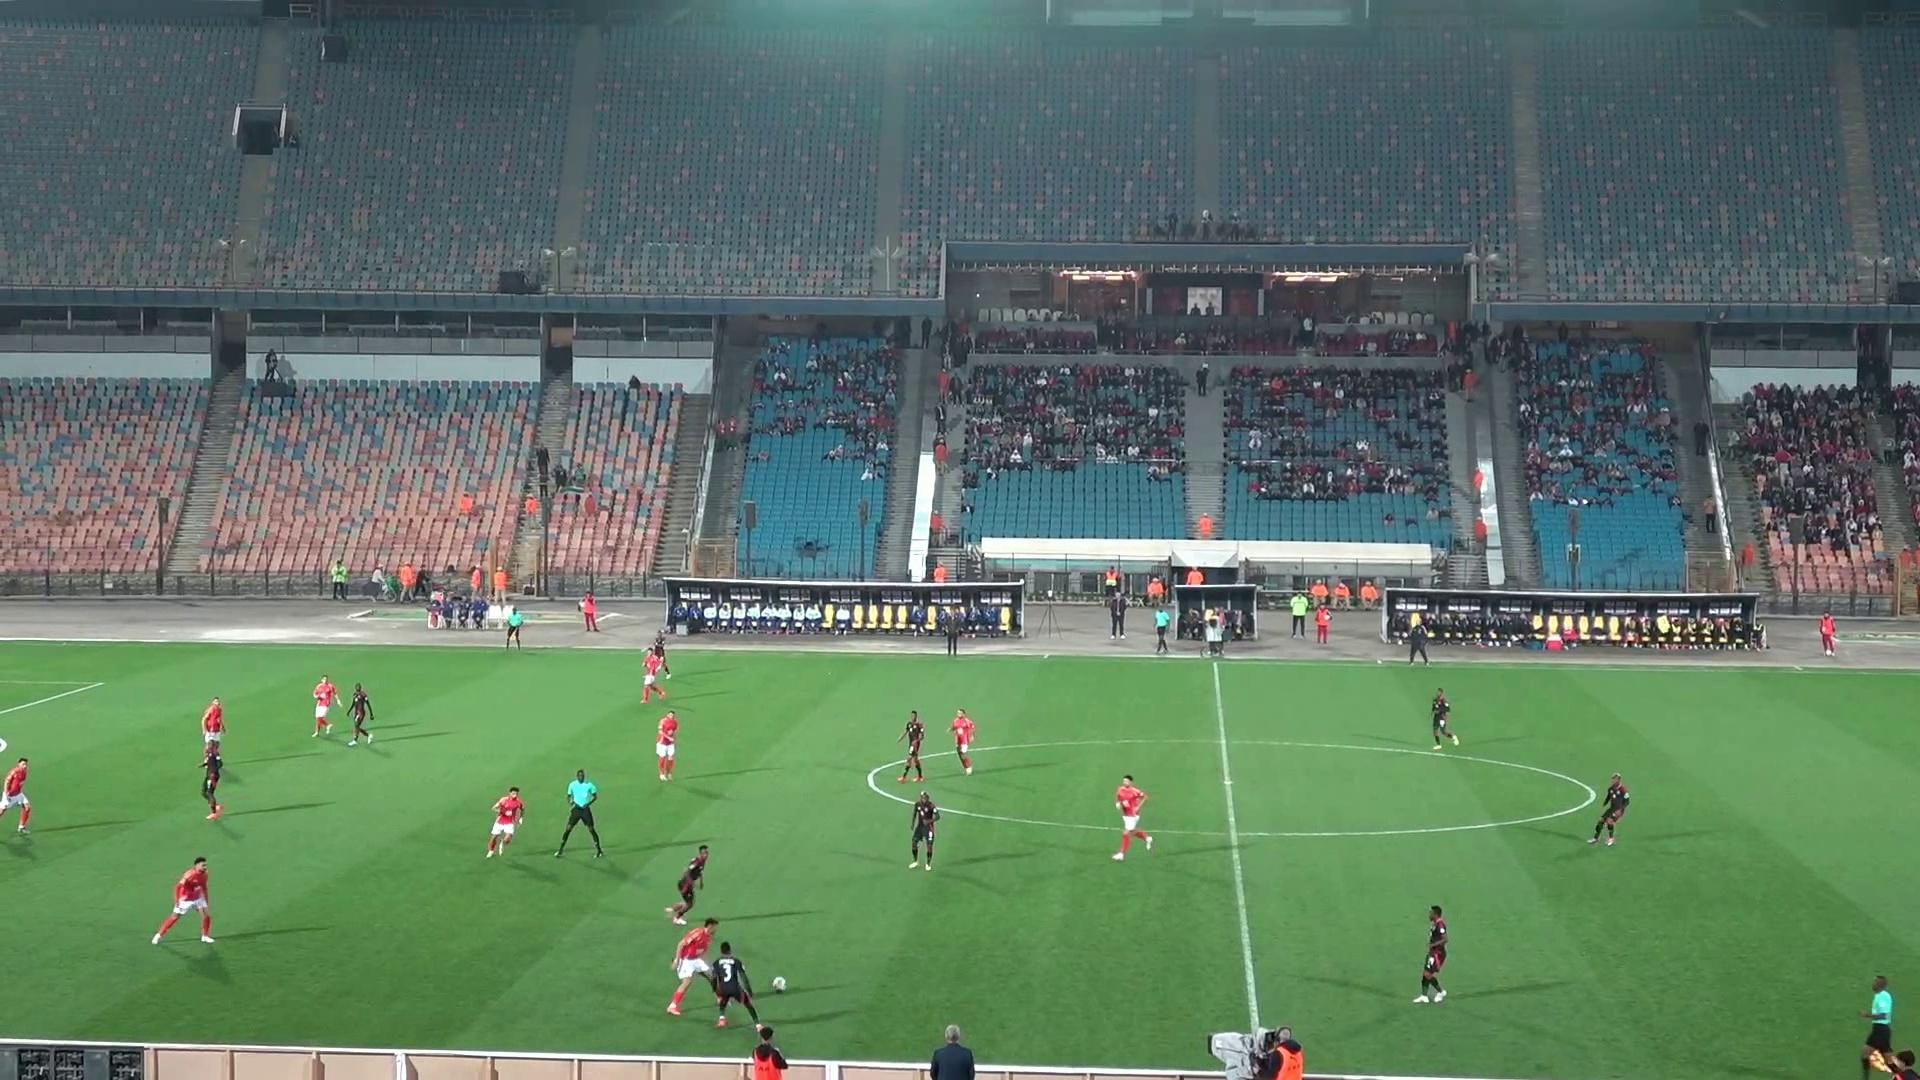Ball: (771, 977, 787, 993)
Refree: (1862, 976, 1909, 1079), (555, 769, 603, 857), (504, 604, 525, 647)
Team1: (152, 858, 214, 943), (666, 918, 717, 1015), (1112, 775, 1151, 860), (485, 787, 524, 858), (0, 757, 32, 833), (641, 638, 669, 703), (951, 709, 975, 774), (313, 675, 338, 736), (655, 709, 676, 781), (200, 698, 224, 761), (1153, 603, 1174, 654)
Team2: (708, 942, 757, 1027), (665, 845, 708, 924), (1414, 905, 1447, 1004), (1586, 774, 1630, 844), (909, 790, 940, 869), (898, 711, 924, 782), (200, 740, 222, 819), (1431, 688, 1457, 748), (347, 683, 372, 745)
